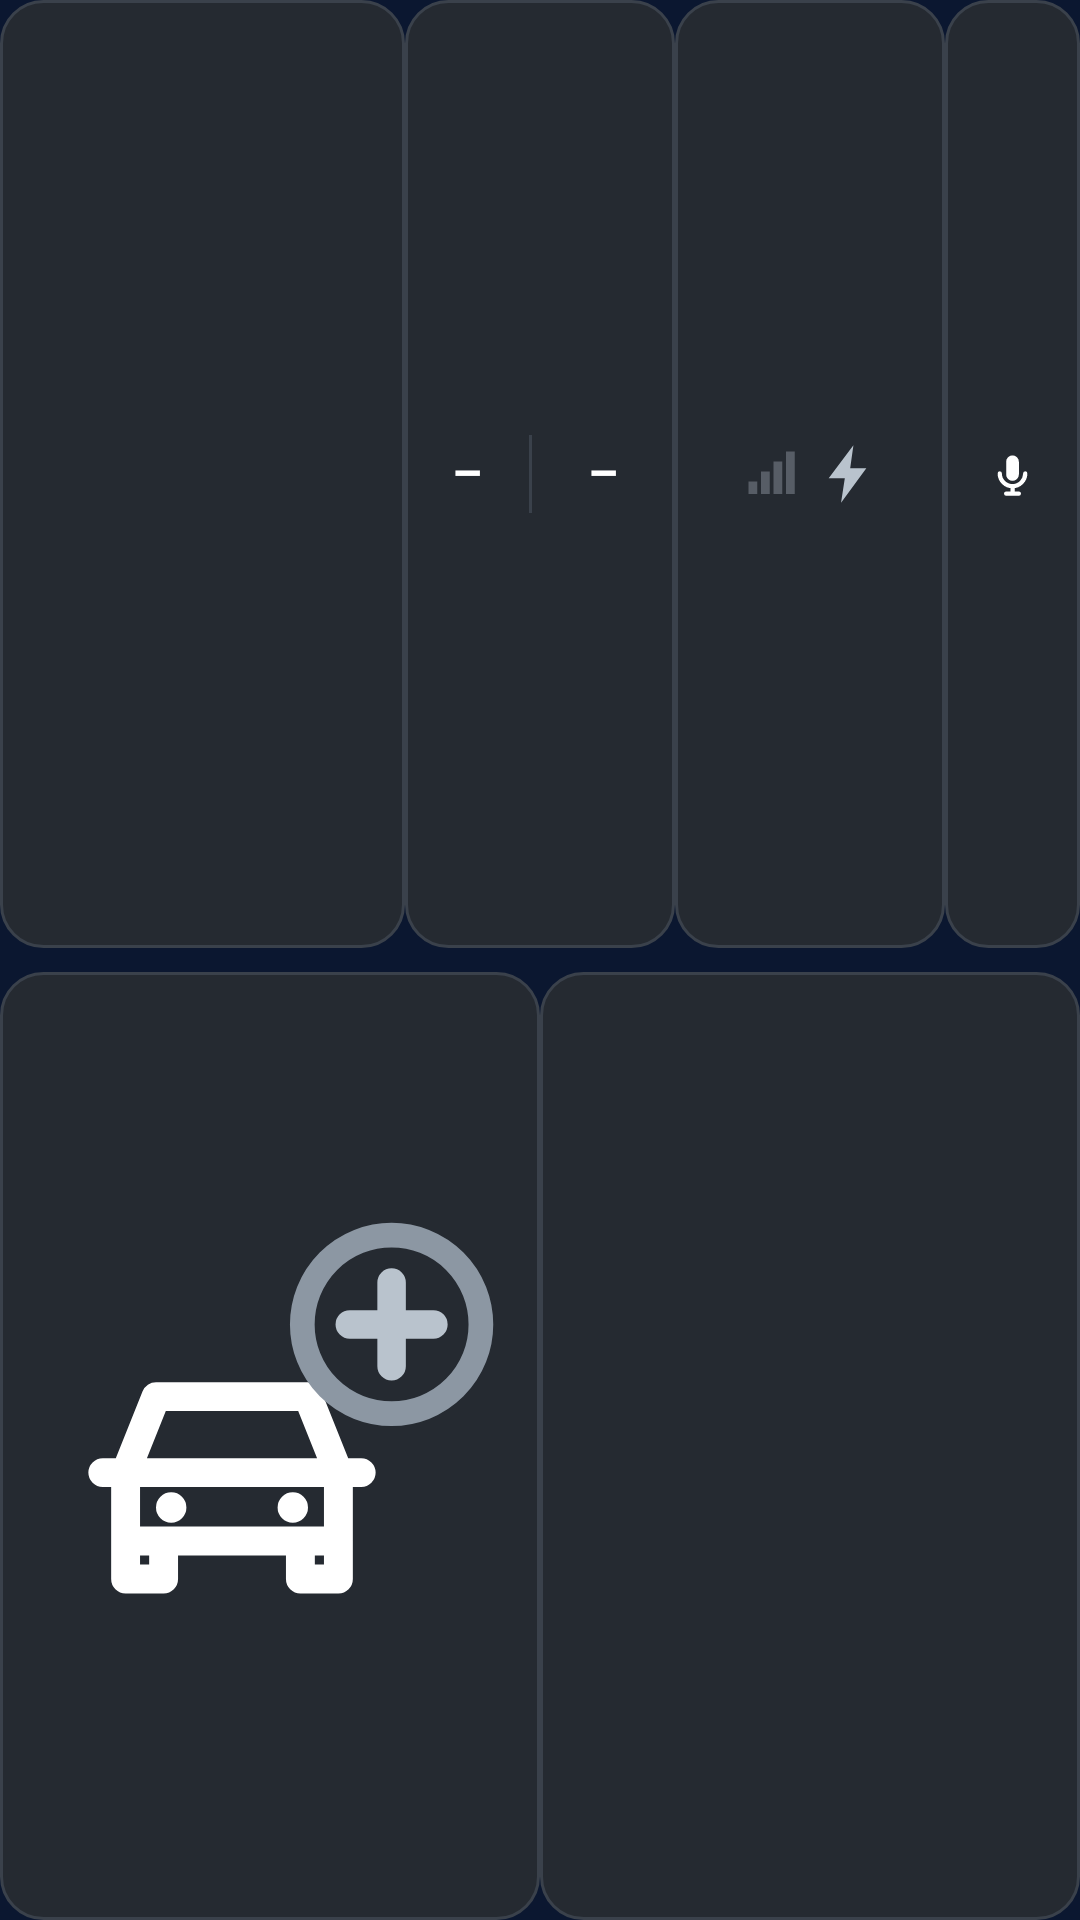

Named icons in this screenshot (1080px x 1920px) and their bounding boxes, (x1, y1, x2, y2):
Şarj: (829, 445, 866, 503)
Şebeke çekimi: (748, 451, 795, 494)
